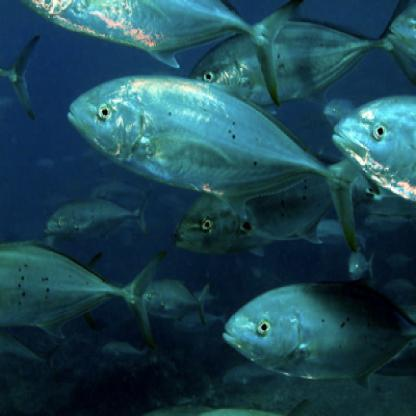jack: (69, 55, 367, 265), (215, 280, 416, 393)
